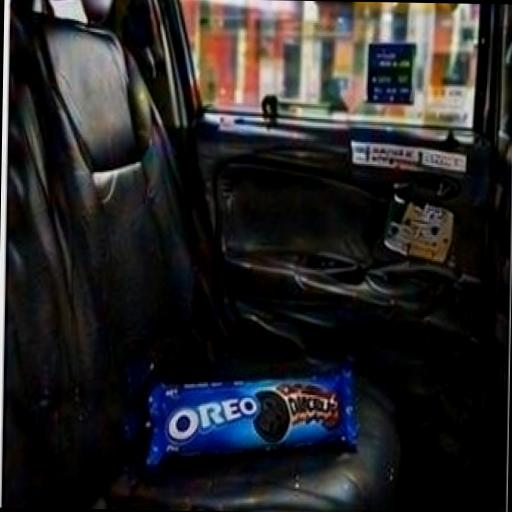oreo: (102, 312, 386, 512)
